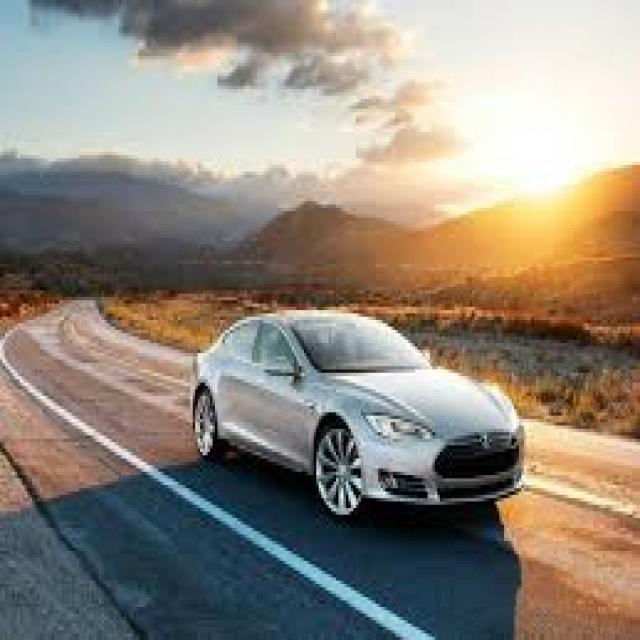car: (187, 314, 538, 524)
